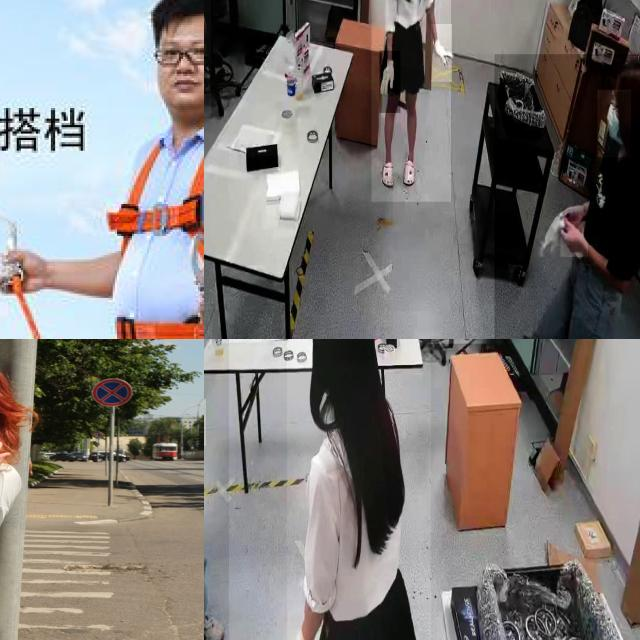Harness: (102, 108, 204, 339)
face_mask: (597, 90, 631, 157)
hand_glove: (379, 50, 401, 114), (431, 24, 453, 83)
hand_noglove: (560, 221, 588, 257)
head_nohelmet: (615, 56, 640, 91)
person: (286, 339, 431, 640), (494, 54, 640, 339), (371, 0, 451, 202)
shoes: (204, 601, 227, 640)
